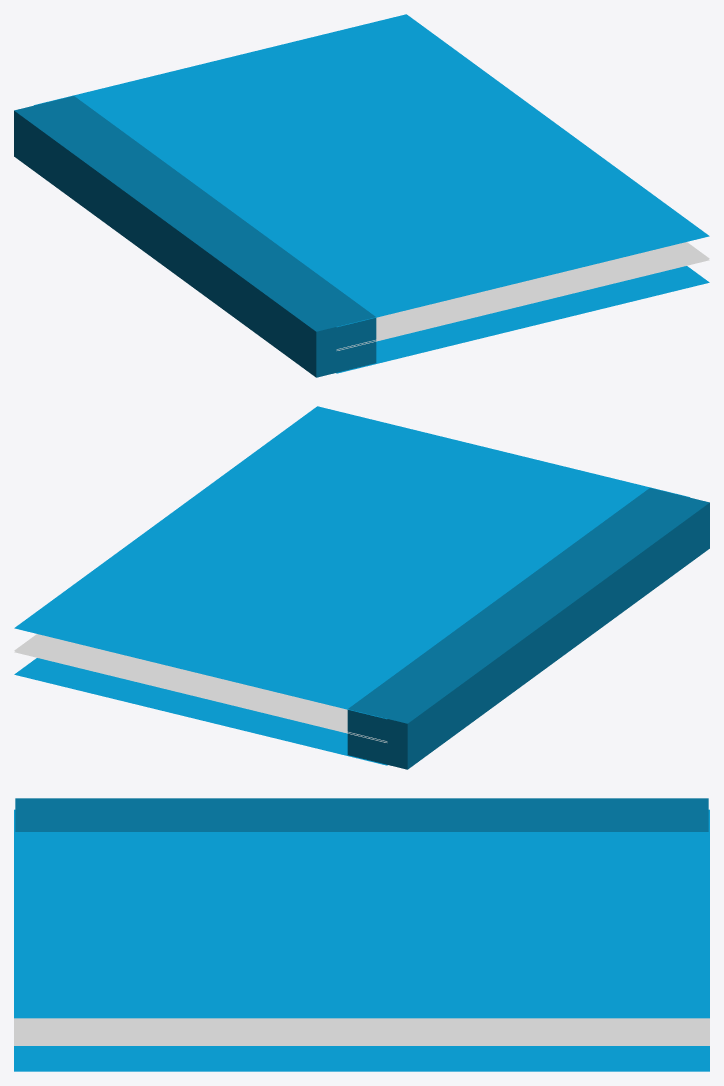
File: book3.glb
The picture shows the model from 3 angles, top to bottom: view 1: azimuth 30°, elevation 25°; view 2: azimuth 150°, elevation 25°; view 3: azimuth 270°, elevation 25°; orthographic projection. The views are drawn at different scales.
Visible parts, largest first — view 1: paper.033, Cube, paper, paper.017, paper.016; view 2: paper.033, Cube, paper, paper.017, paper.016; view 3: paper.033, Cube, paper.017, paper, paper.016.
Part boxes in pixels (<box>): paper.033: <box>34,14,709,327</box>; Cube: <box>14,96,376,377</box>; paper: <box>336,266,709,373</box>; paper.017: <box>336,242,709,349</box>; paper.016: <box>336,259,709,350</box>; paper.033: <box>14,406,689,719</box>; Cube: <box>347,488,709,769</box>; paper: <box>14,658,387,765</box>; paper.017: <box>14,634,387,741</box>; paper.016: <box>14,651,387,742</box>; paper.033: <box>14,809,709,1018</box>; Cube: <box>15,798,708,831</box>; paper.017: <box>14,1018,709,1044</box>; paper: <box>14,1046,709,1071</box>; paper.016: <box>14,1044,709,1045</box>.
Size of the model in its own units: 1.5 by 0.1688 by 2.
